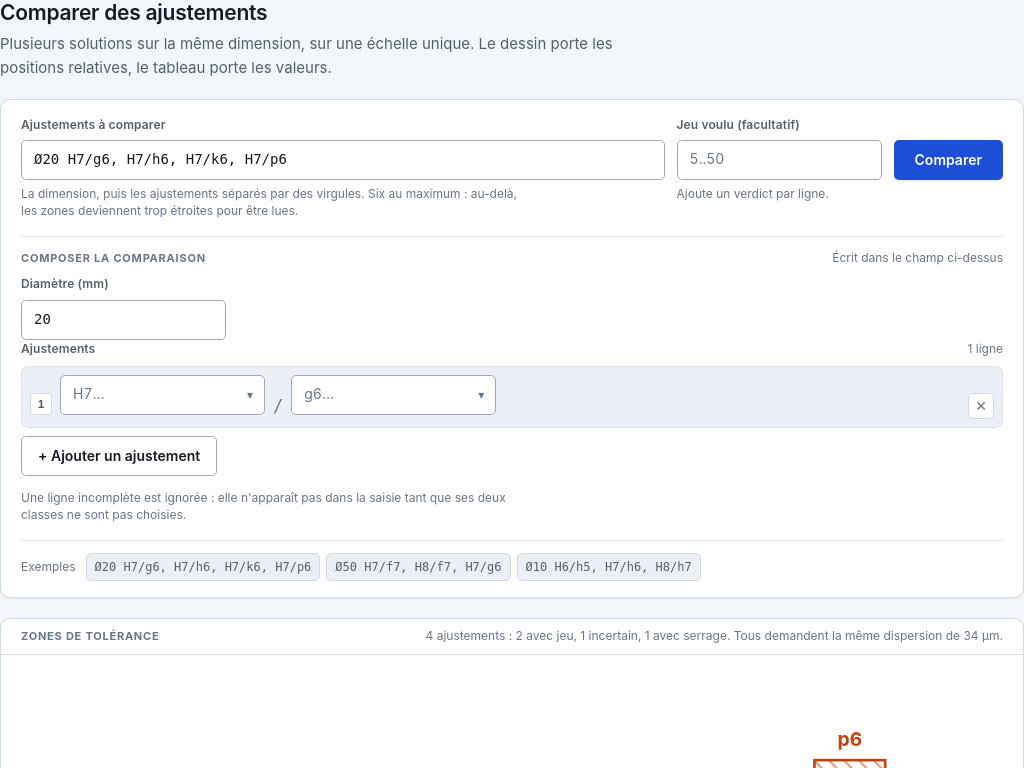
Scenario: écran de comparaison › ajoute et retire des lignes
Click the 2nd button named "Ajouter un ajustement": point(119, 456) left=21, top=436, right=217, bottom=476
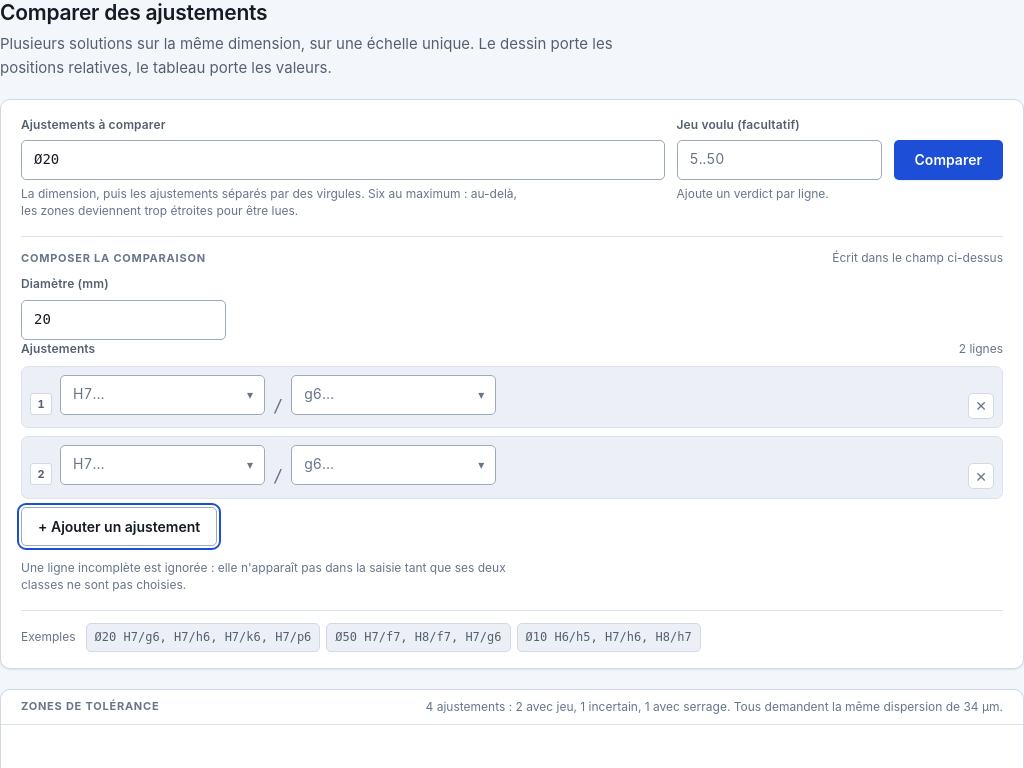
Expected: the dropdown named "Alésage, ajustement 2" is shown, left=60, top=445, right=265, bottom=485
Click the button named "Retirer l'ajustement 2": point(981, 476) left=968, top=463, right=994, bottom=489
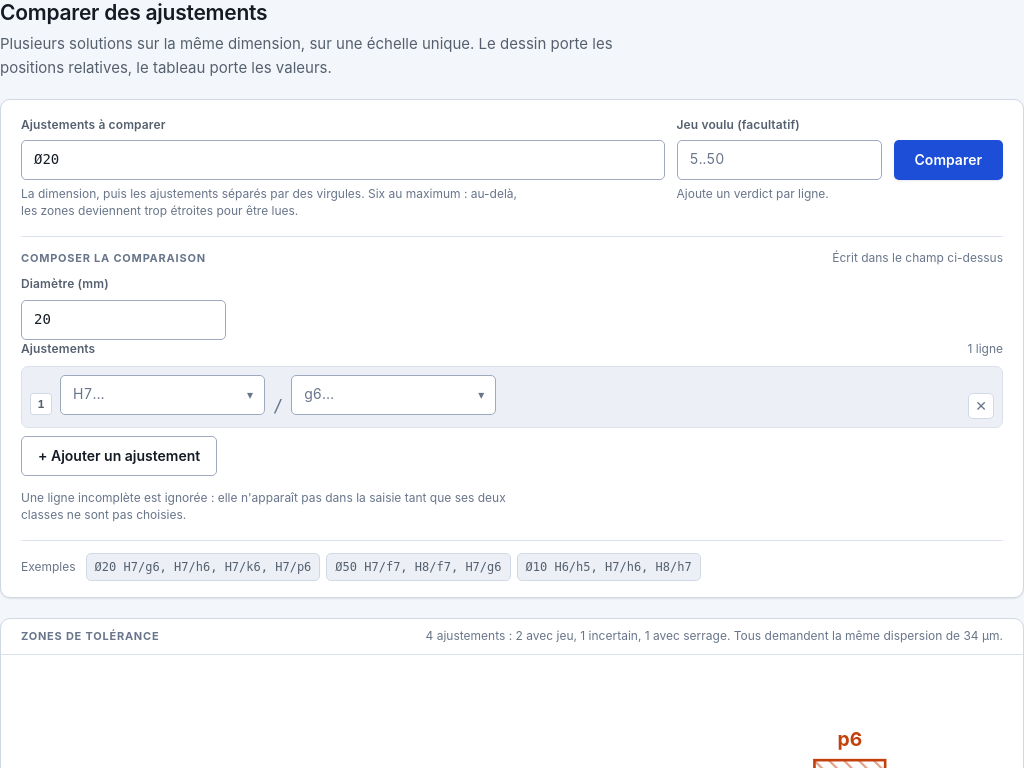
Click the button named "Retirer l'ajustement 1": point(981, 406) left=968, top=393, right=994, bottom=419
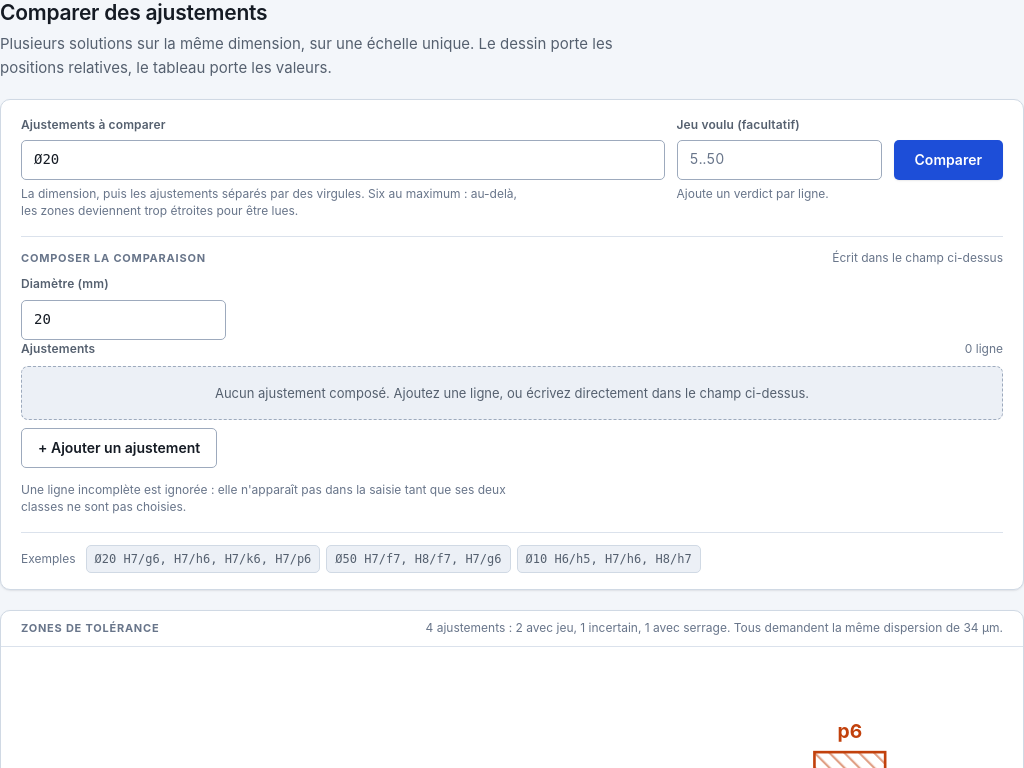
Expected: the 2nd button named "Ajouter un ajustement" is enabled, left=21, top=428, right=217, bottom=468
Expected: the 8th text "Aucun ajustement composé" is shown, left=215, top=385, right=809, bottom=401
